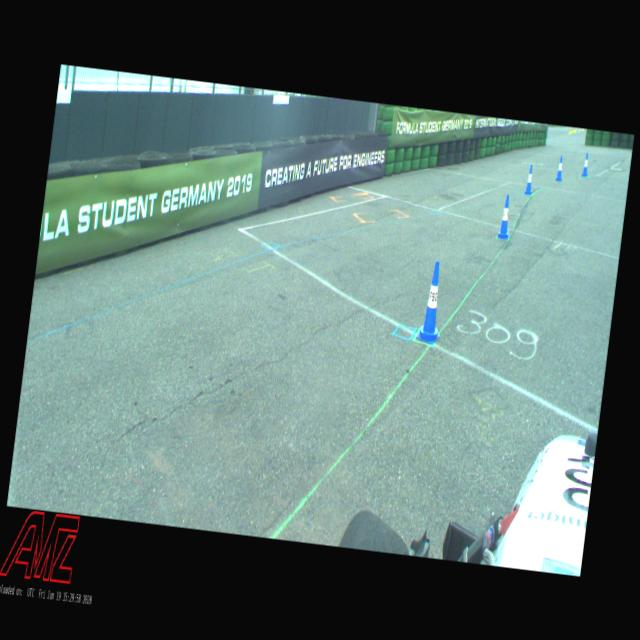blue_cone: (416, 260, 447, 344), (498, 195, 512, 239), (524, 164, 534, 195), (581, 152, 590, 176), (556, 155, 564, 181)
yellow_cone: (568, 126, 570, 134), (570, 126, 572, 132), (572, 127, 574, 132), (578, 127, 580, 131), (574, 127, 575, 131), (581, 128, 583, 130)
